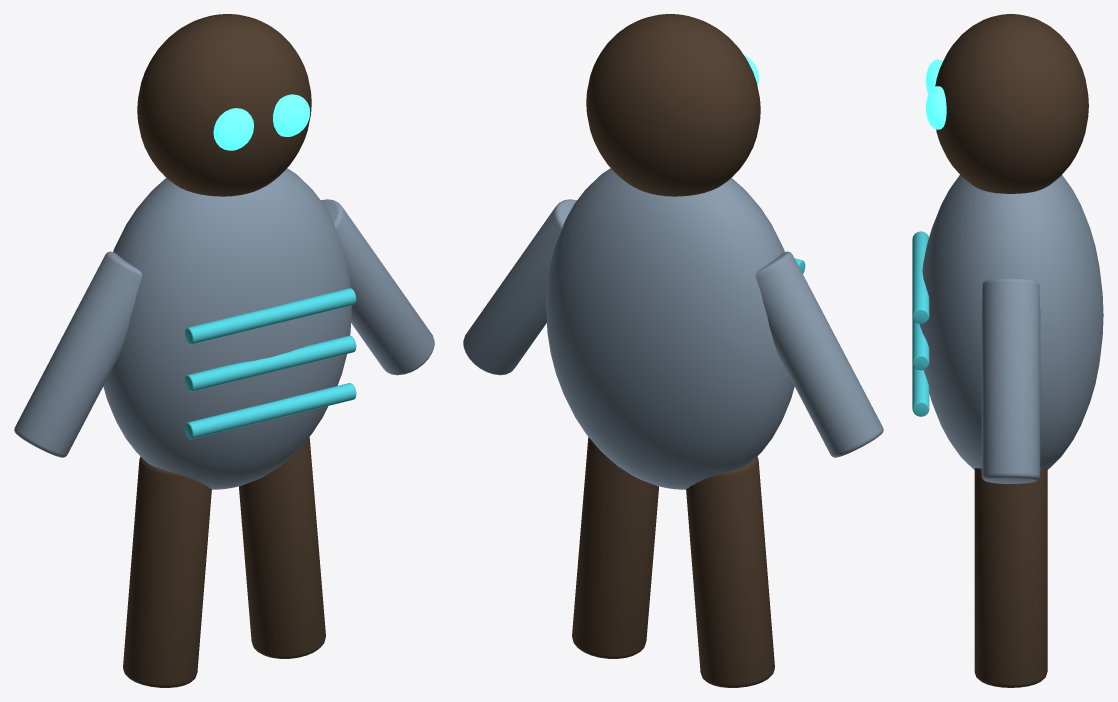
The model's file is undead.glb.
3 views of the same model, side by side, from view 1: azimuth 30°, elevation 25°; view 2: azimuth 150°, elevation 25°; view 3: azimuth 270°, elevation 25° (orthographic). The views are drawn at different scales.
Visible parts, largest first — view 1: BODY_PRIMARY, HEAD_SECONDARY, LEG_L_SECONDARY, LEG_R_SECONDARY, ARM_L_PRIMARY, ARM_R_PRIMARY, RIB_ACCENT, RIB_ACCENT.002, RIB_ACCENT.001, EYE_EMISSIVE, EYE_EMISSIVE.001; view 2: BODY_PRIMARY, HEAD_SECONDARY, LEG_L_SECONDARY, LEG_R_SECONDARY, ARM_L_PRIMARY, ARM_R_PRIMARY; view 3: BODY_PRIMARY, HEAD_SECONDARY, LEG_R_SECONDARY, ARM_R_PRIMARY, RIB_ACCENT.002, RIB_ACCENT, EYE_EMISSIVE.001, RIB_ACCENT.001, EYE_EMISSIVE.
Part boxes in pixels (<box>): BODY_PRIMARY: <box>103,168,351,489</box>; HEAD_SECONDARY: <box>137,14,311,196</box>; LEG_L_SECONDARY: <box>123,456,211,687</box>; LEG_R_SECONDARY: <box>239,437,325,658</box>; ARM_L_PRIMARY: <box>14,251,141,457</box>; ARM_R_PRIMARY: <box>321,199,434,375</box>; RIB_ACCENT: <box>184,383,356,439</box>; RIB_ACCENT.002: <box>184,288,356,344</box>; RIB_ACCENT.001: <box>184,335,356,391</box>; EYE_EMISSIVE: <box>213,108,253,150</box>; EYE_EMISSIVE.001: <box>273,94,310,136</box>; BODY_PRIMARY: <box>546,168,794,489</box>; HEAD_SECONDARY: <box>586,14,760,196</box>; LEG_L_SECONDARY: <box>686,456,774,687</box>; LEG_R_SECONDARY: <box>572,437,658,658</box>; ARM_L_PRIMARY: <box>756,251,883,457</box>; ARM_R_PRIMARY: <box>463,199,576,375</box>; BODY_PRIMARY: <box>919,175,1103,469</box>; HEAD_SECONDARY: <box>935,14,1088,193</box>; LEG_R_SECONDARY: <box>974,468,1047,687</box>; ARM_R_PRIMARY: <box>981,278,1040,483</box>; RIB_ACCENT.002: <box>912,231,929,323</box>; RIB_ACCENT: <box>912,363,929,416</box>; EYE_EMISSIVE.001: <box>926,86,946,129</box>; RIB_ACCENT.001: <box>912,317,929,370</box>; EYE_EMISSIVE: <box>926,59,942,94</box>.
Bounding box in the file's own units: 1.91 × 2.84 × 0.785.
